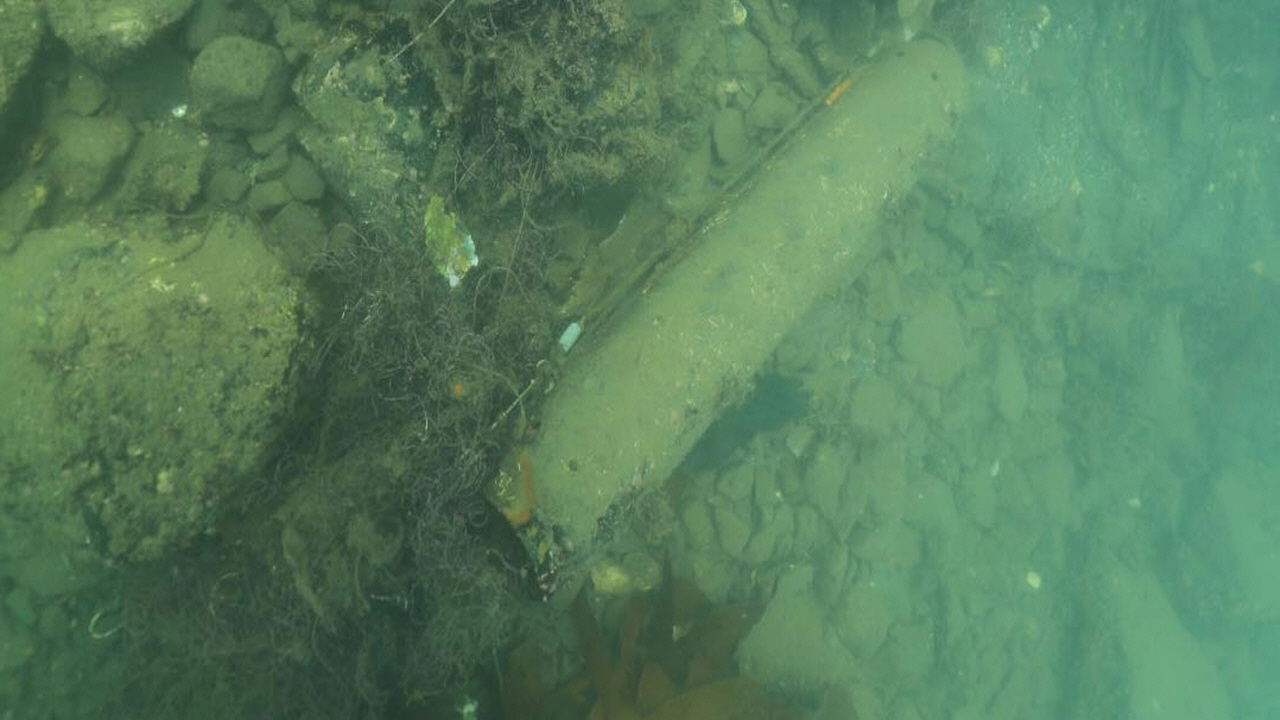eel fish trap: (479, 23, 968, 599)
